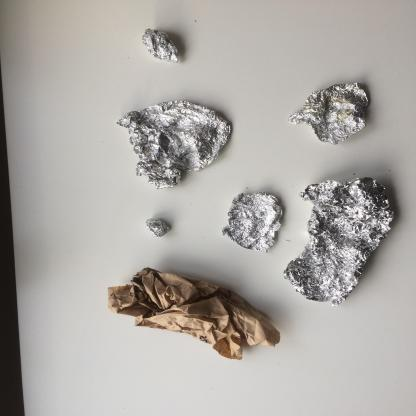kagit: (108, 268, 282, 362)
metal: (284, 176, 398, 308), (116, 101, 235, 191), (289, 83, 371, 147), (222, 192, 285, 254), (143, 29, 181, 65), (145, 216, 173, 240)
